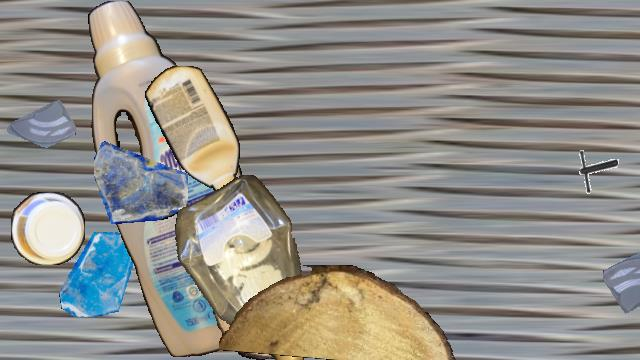glass: (94, 130, 188, 224), (57, 232, 141, 316), (7, 93, 75, 161), (603, 234, 640, 322)
metal: (209, 150, 271, 212), (570, 147, 618, 195)
plastic: (86, 1, 290, 357), (170, 175, 316, 359), (145, 66, 239, 194), (11, 192, 85, 264)
wood: (219, 265, 459, 359), (211, 253, 287, 359)
